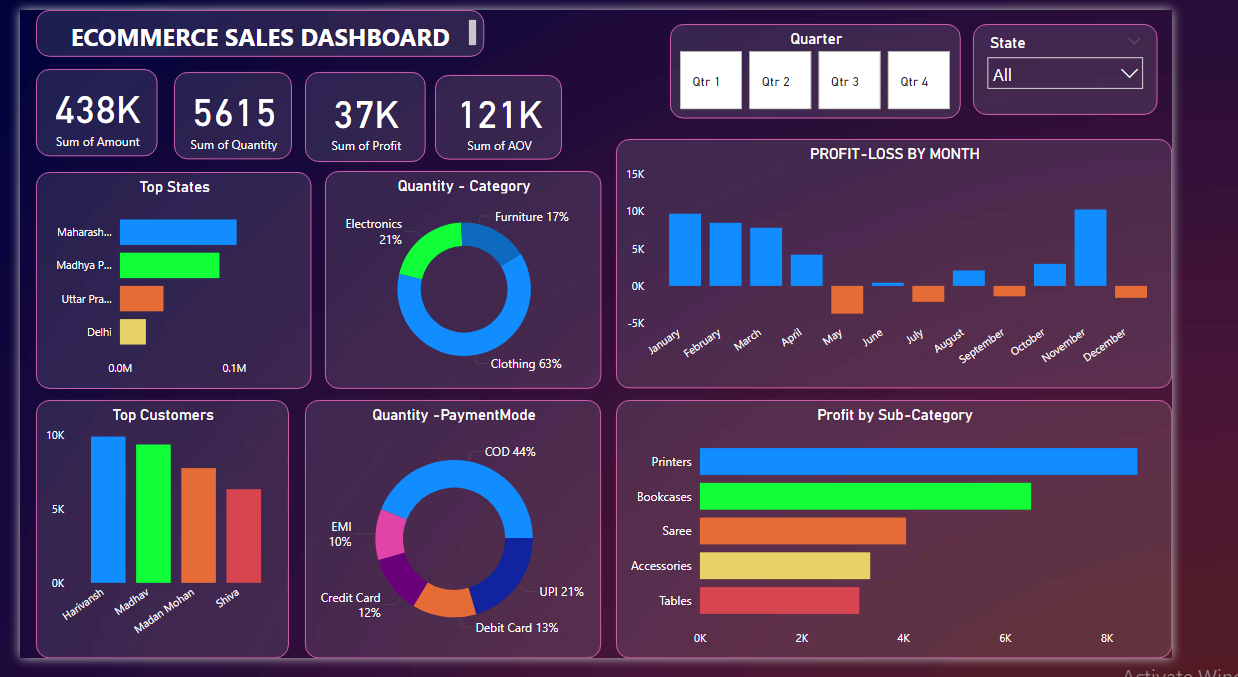

This screenshot's page, from the dashboard's own definition file:
{"tool":"powerbi","page":{"name":"Page 1","canvas":[1280,720],"ordinal":0},"visuals":[{"type":"columnChart","title":"PROFIT-LOSS BY MONTH","fields":{"Category":["Orders.Order Date.Variation.Date Hierarchy.Month"],"Y":["Details.Profit"]},"box":[661.9,143.6,617.6,276.6],"z":0},{"type":"clusteredBarChart","title":" Profit by Sub-Category","fields":{"Category":["Details.Sub-Category"],"Y":["Details.Profit"]},"box":[661.9,432.8,617.6,287.2],"z":1000},{"type":"donutChart","title":" Quantity - Category","fields":{"Category":["Details.Category"],"Y":["Details.Quantity"]},"box":[338.9,178.4,307.2,241.8],"z":2000},{"type":"donutChart","title":" Quantity -PaymentMode","fields":{"Category":["Details.PaymentMode"],"Y":["Details.Quantity"]},"box":[316.7,432.8,329.4,287.2],"z":3000},{"type":"clusteredBarChart","title":"Top States","fields":{"Category":["Orders.State"],"Y":["Details.Amount"]},"box":[17.9,179.5,306.2,240.7],"z":4000},{"type":"columnChart","title":"Top Customers","fields":{"Category":["Orders.CustomerName"],"Y":["Details.Amount"]},"box":[17.9,432.8,280.8,287.2],"z":5000},{"type":"card","fields":{"Values":["Details.Amount"]},"box":[17.9,65.5,135.1,97.1],"z":6000},{"type":"card","fields":{"Values":["Details.Quantity"]},"box":[171,68.6,130.9,97.1],"z":7000},{"type":"card","fields":{"Values":["Details.Profit"]},"box":[316.7,68.6,134.1,100.3],"z":8000},{"type":"card","fields":{"Values":["Details.AOV"]},"box":[461.3,71.8,141.5,94],"z":9000},{"type":"advancedSlicerVisual","fields":{"Values":["Orders.Order Date.Variation.Date Hierarchy.Quarter"]},"box":[722.1,15.8,323,104.5],"z":10000},{"type":"slicer","fields":{"Values":["Orders.State"]},"box":[1059,16,205,101],"z":11000},{"type":"textbox","box":[17.9,0,498.3,51.7],"z":12000}]}

Visuals, with their boxes in screenshot pixels (x1, y1, x2, y2), scaled from the page's 1280x720 canvas onto the 1238x677 screenshot:
"PROFIT-LOSS BY MONTH" columnChart: bbox=(640, 135, 1237, 395)
" Profit by Sub-Category" clusteredBarChart: bbox=(640, 407, 1237, 676)
" Quantity - Category" donutChart: bbox=(328, 168, 625, 395)
" Quantity -PaymentMode" donutChart: bbox=(306, 407, 625, 676)
"Top States" clusteredBarChart: bbox=(17, 169, 313, 395)
"Top Customers" columnChart: bbox=(17, 407, 289, 676)
card - Details.Amount: bbox=(17, 62, 148, 153)
card - Details.Quantity: bbox=(165, 65, 292, 156)
card - Details.Profit: bbox=(306, 65, 436, 159)
card - Details.AOV: bbox=(446, 68, 583, 156)
advancedSlicerVisual - Orders.Order Date.Variation.Date Hierarchy.Quarter: bbox=(698, 15, 1011, 113)
slicer - Orders.State: bbox=(1024, 15, 1223, 110)
textbox: bbox=(17, 0, 499, 49)
